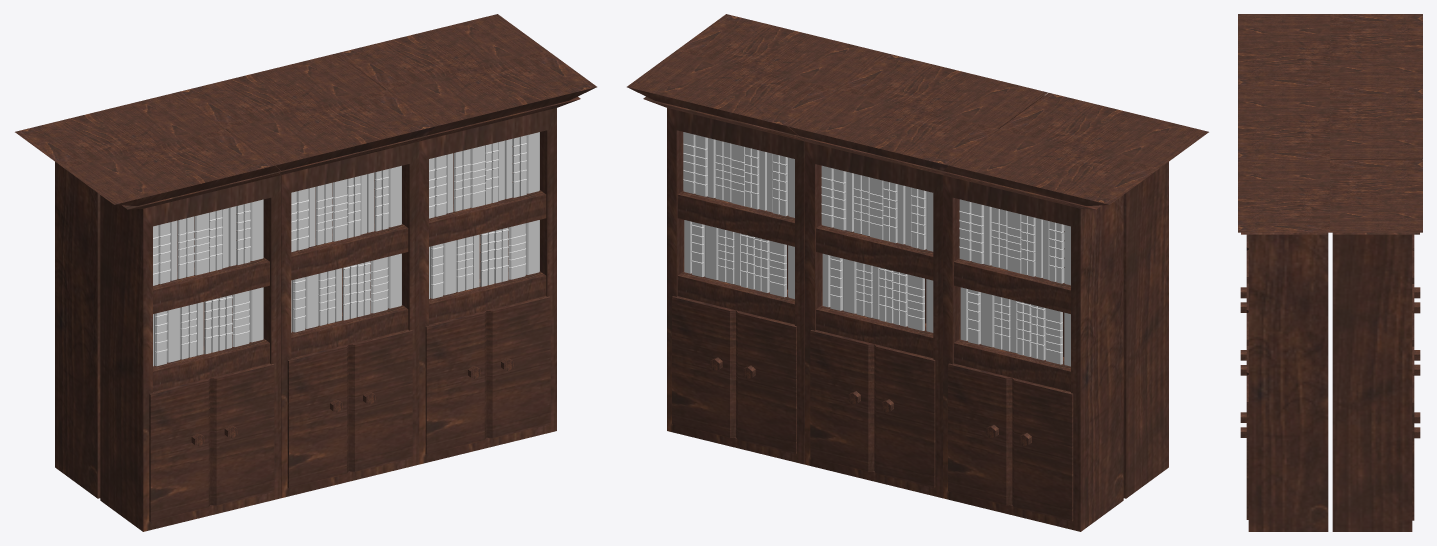
The model's file is EstanteDeLivros2.fbx.
3 renders of one model, left to right at view 1: azimuth 30°, elevation 25°; view 2: azimuth 150°, elevation 25°; view 3: azimuth 270°, elevation 25°, orthographic. The views are drawn at different scales.
Parts seen in each view (by area): view 1: Estante de livros2; view 2: Estante de livros2; view 3: Estante de livros2.
Part boxes in pixels (x1,y1,x2,y2): Estante de livros2: (15,14,596,531); Estante de livros2: (627,14,1208,531); Estante de livros2: (1238,14,1422,531).
Size of the model in its own units: 6.26 by 2.24 by 4.2.
